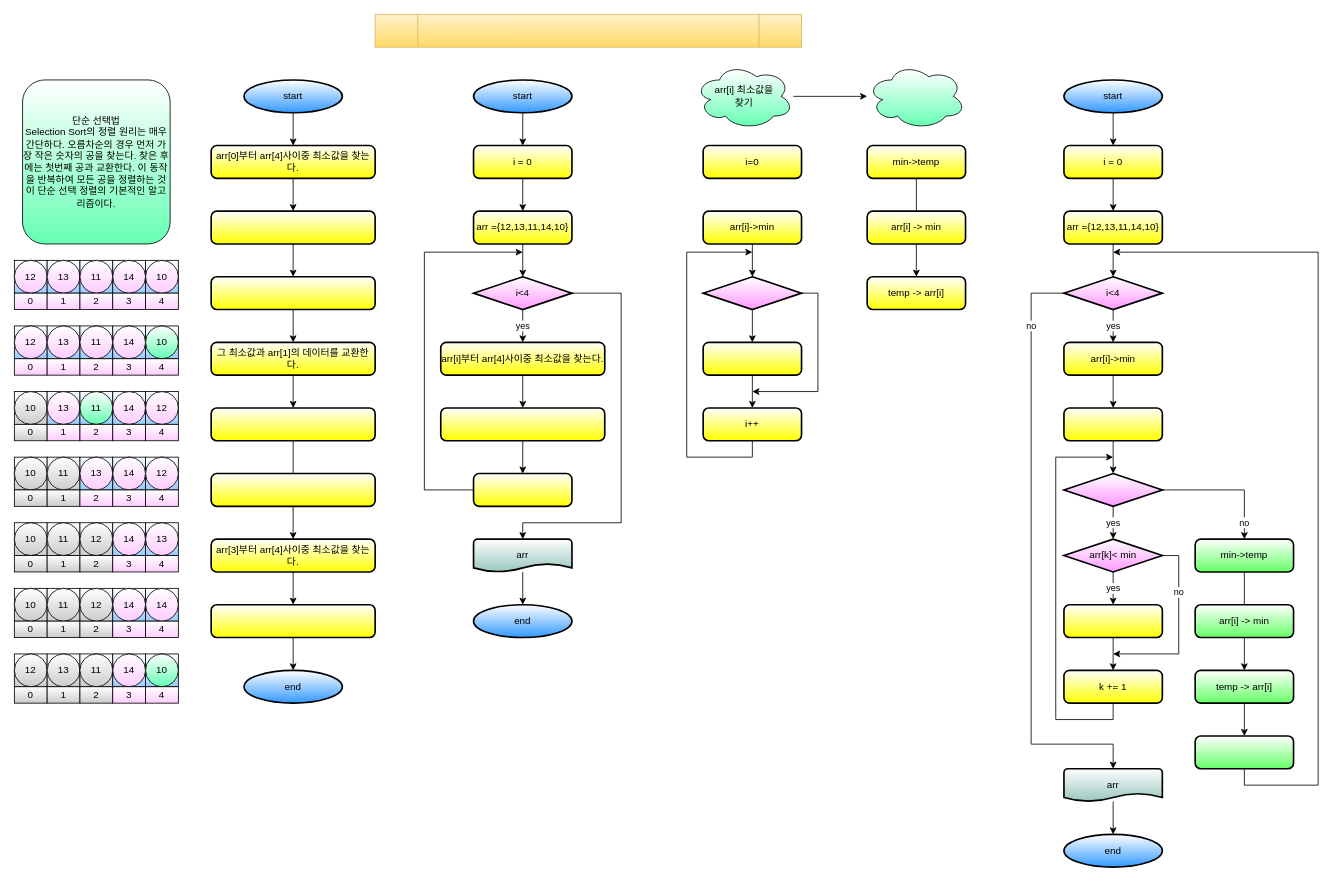
Image size: 1339x882. Some labels were removed from this diagram. The shapes that lost their labels are listed below. From the top down, each one's centre as x and y in pixels, then its label:
point 588,30: Selection Sort
point 916,96: 데이터 교환 임시 변수 temp 사용
point 293,227: 그 최소값과 arr[0]의 데이터를 교환한다.
point 293,293: arr[1]부터 arr[4]사이중 최소값을 찾는다.
point 752,293: arr[i]> arr[i+1]
point 752,358: arr[i+1] ->min
point 293,424: arr[2]부터 arr[4]사이중 최소값을 찾는다.
point 522,424: 그 최소값과 arr[i]의 데이터를 교환한다.
point 1113,424: i+1 ->k
point 293,489: 그 최소값과 arr[2]의 데이터를 교환한다.
point 522,489: i +=1
point 1113,489: k<5
point 293,621: 그 최소값과 arr[3]의 데이터를 교환한다.
point 1113,621: k->min
point 1244,752: i+= 1
